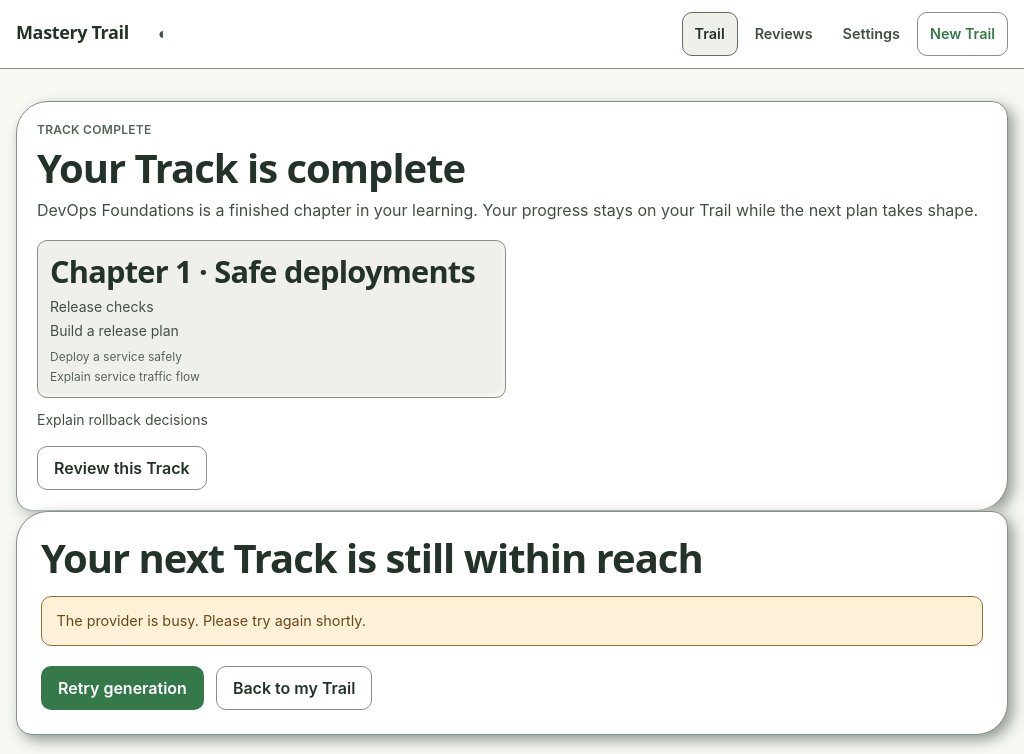
ContinuationFlow › keeps the completion summary visible and retries a failed generation
The width and height of the screenshot is (1024, 754).
expect the message shows "provider is busy": met, box [56, 612, 366, 630]
expect the heading "Your Track is complete" is shown: met, box [37, 140, 465, 195]
Click the button "Retry generation": (122, 688) [41, 666, 204, 710]
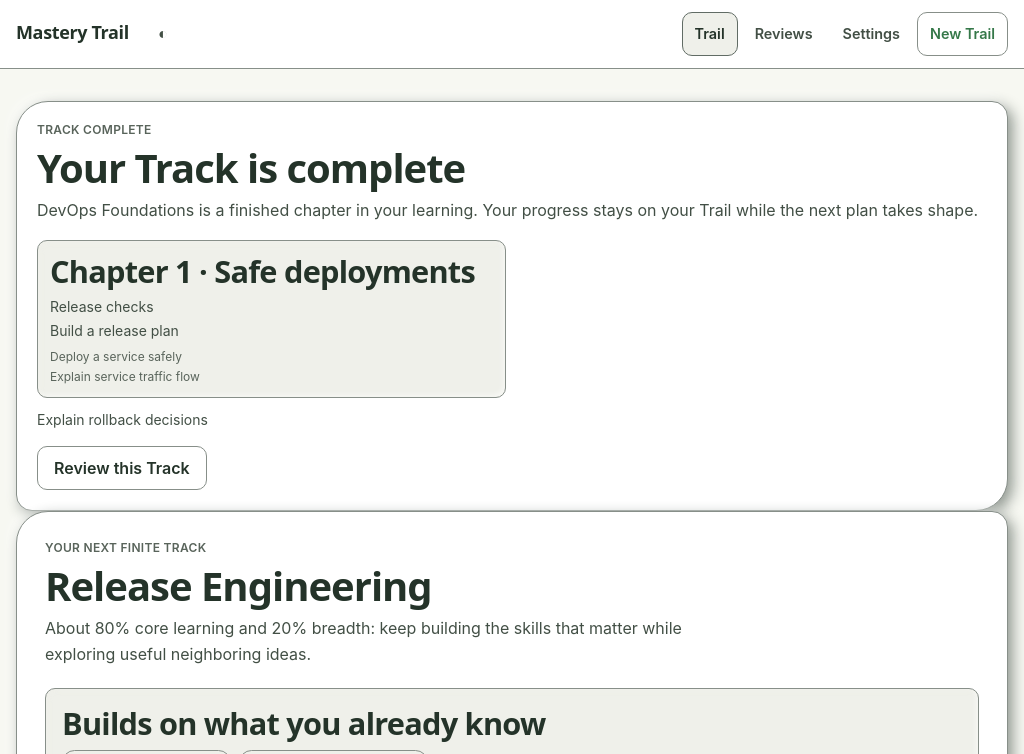
expect the heading "Release Engineering" is shown: met, box [45, 558, 432, 614]
